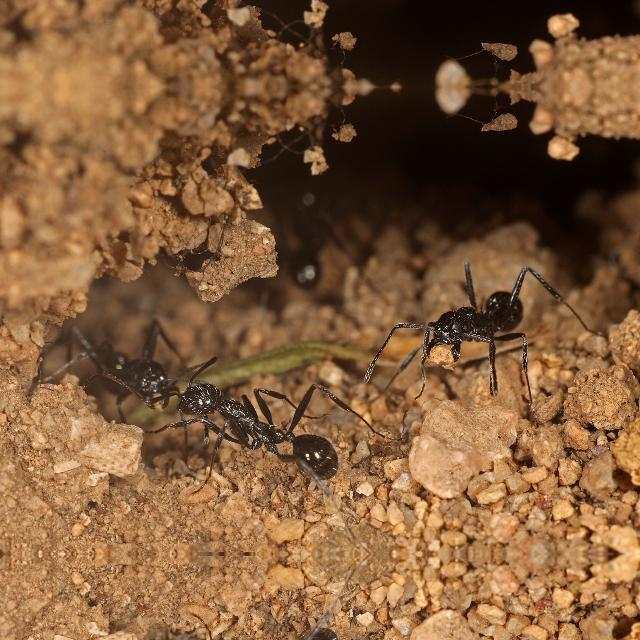Apheanogaster: (154, 360, 363, 490), (378, 264, 550, 381), (79, 322, 183, 422), (272, 137, 322, 301), (270, 0, 321, 34)
